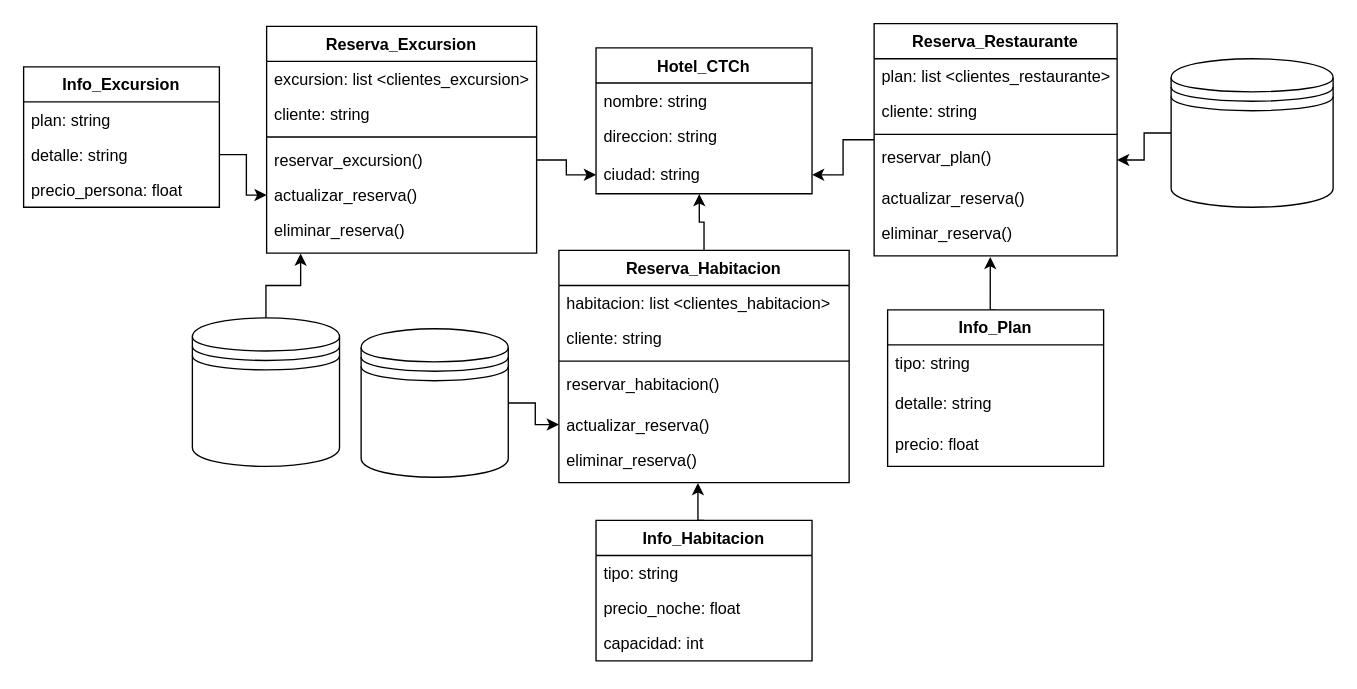
Some shapes in this 1357 by 689 pixel diagram are drawn without their labels. Here are the shapes that lost their labels. From the top down, the centre of each, then its label:
(x=1251, y=132): Clientes_Restaurante
(x=265, y=391): Clientes_Excursion
(x=434, y=402): Clientes_Habitacion
